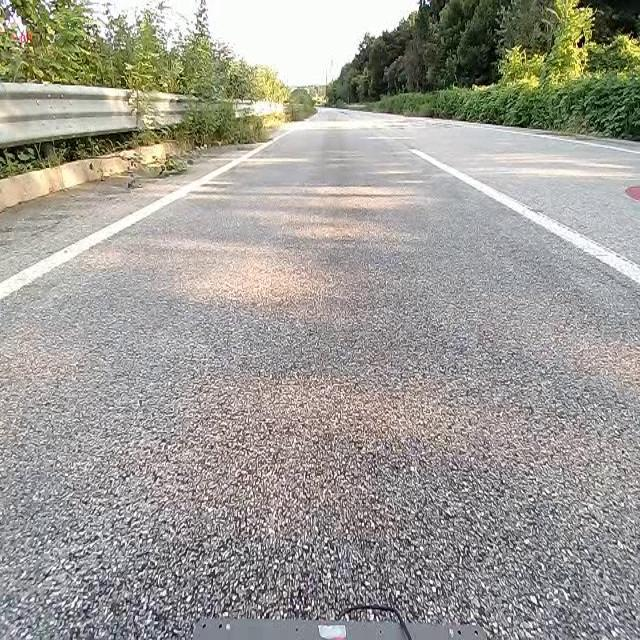Lane: (0, 118, 297, 298), (0, 130, 288, 300), (413, 145, 640, 292), (410, 148, 639, 286)
